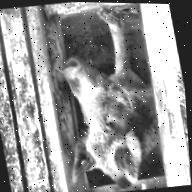boar: (39, 5, 171, 192)
